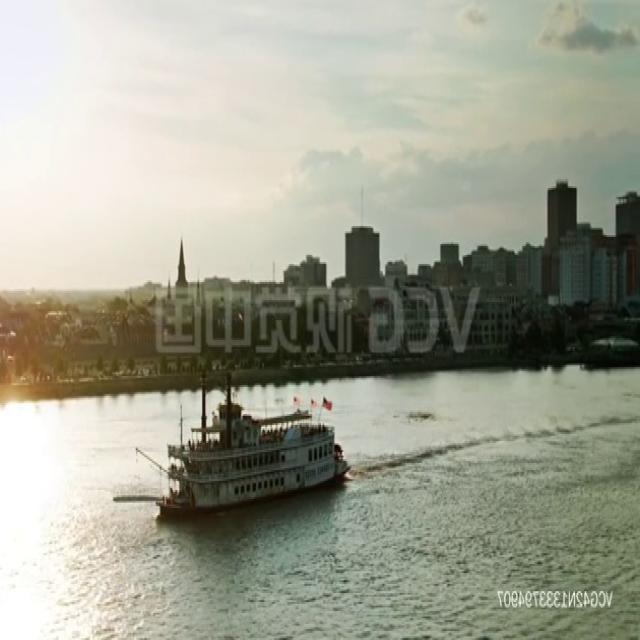passenger ship: (154, 386, 348, 520)
